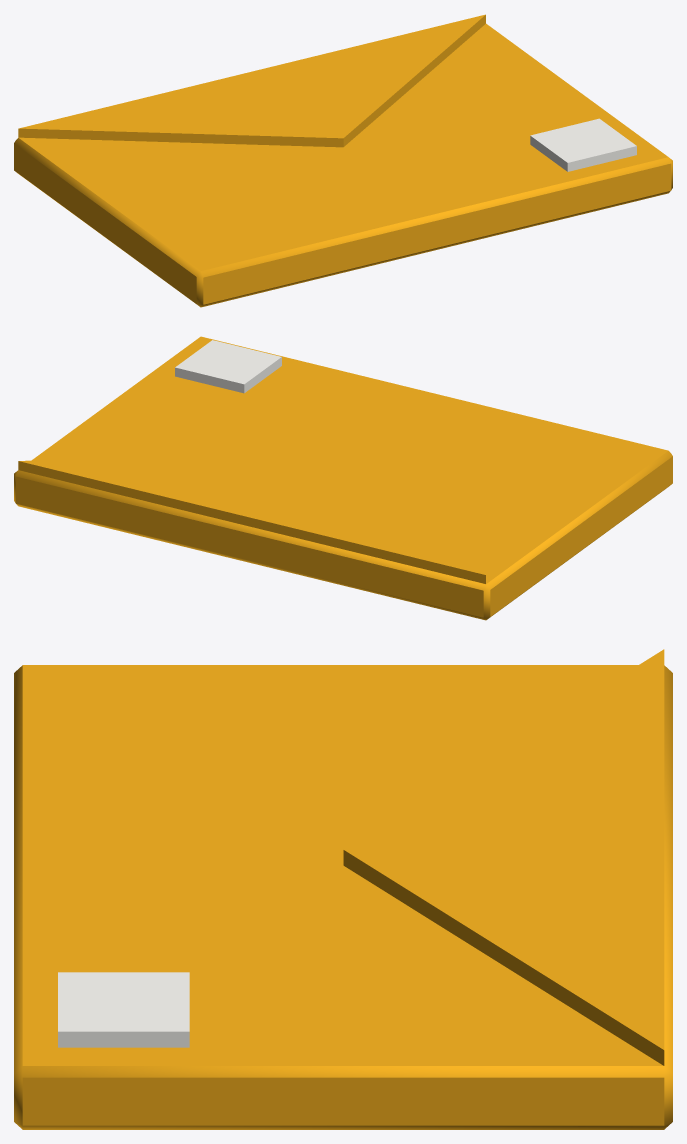
The model's file is letter.glb.
3 renders of one model, top to bottom at view 1: azimuth 30°, elevation 25°; view 2: azimuth 150°, elevation 25°; view 3: azimuth 270°, elevation 25°, orthographic. The views are drawn at different scales.
Visible parts, largest first — view 1: letter_structure; view 2: letter_structure; view 3: letter_structure.
Boxes of the visible parts, x1,y1,x2,y2 form: letter_structure: (14,14,672,307); letter_structure: (14,336,672,620); letter_structure: (14,649,672,1129).
Bounding box in the file's own units: 1.1 × 0.1 × 0.75.
